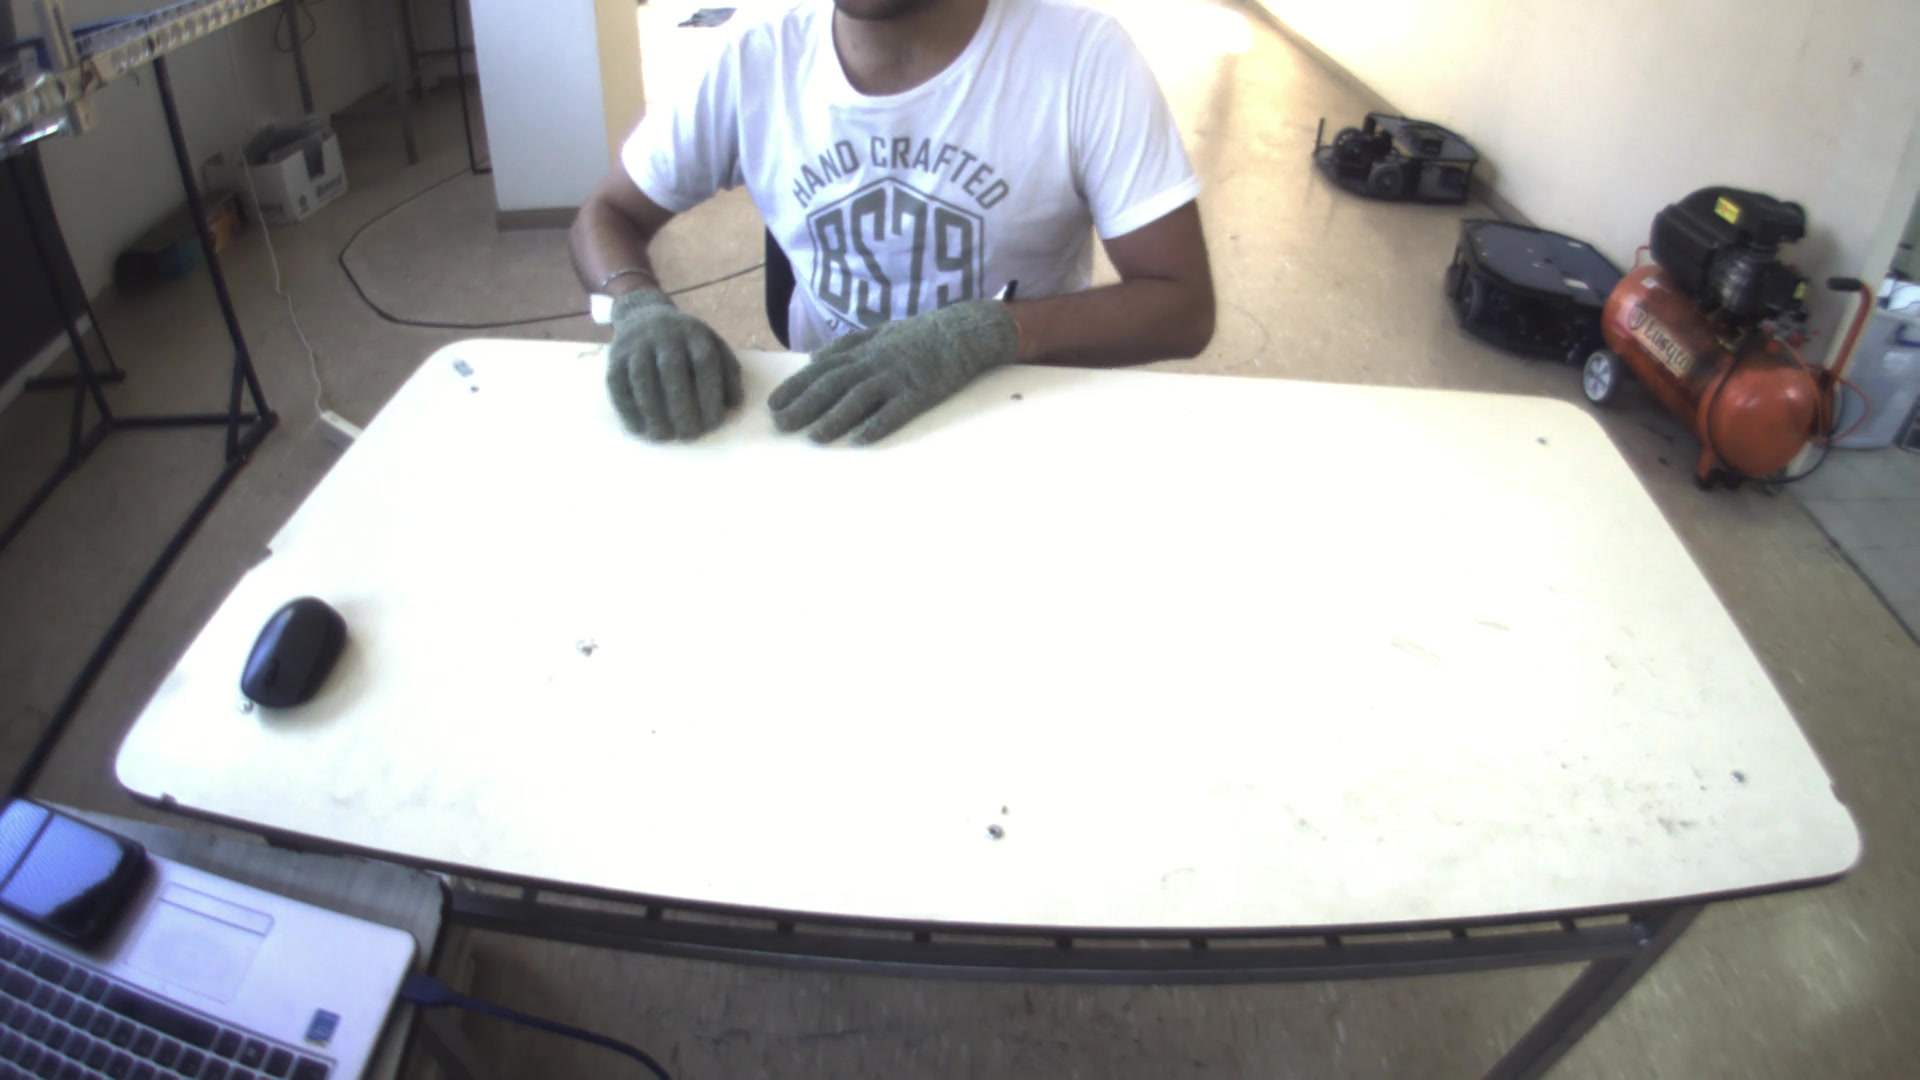hand: (752, 282, 1027, 452), (584, 269, 744, 443)
